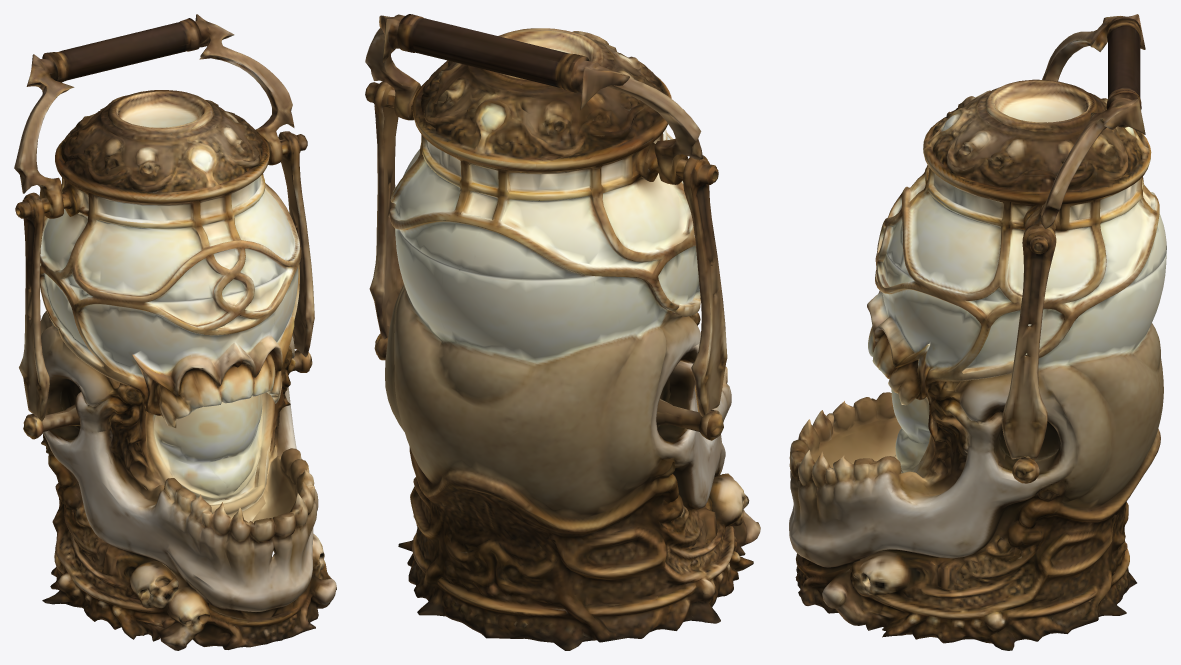
Rendered from white gold.glb.
The picture shows the model from 3 angles, left to right: view 1: azimuth 30°, elevation 25°; view 2: azimuth 150°, elevation 25°; view 3: azimuth 270°, elevation 25°; orthographic projection. The views are drawn at different scales.
Visible parts, largest first — view 1: material; view 2: material; view 3: material.
Boxes of the visible parts, x1,y1,x2,y2 form: material: [14, 14, 336, 650]; material: [365, 14, 760, 650]; material: [789, 14, 1166, 650].
Bounding box in the file's own units: 0.6125 × 1.01 × 0.652.
1 material, 1 textured.
